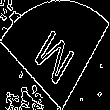M_SW: (30, 21, 80, 89)
